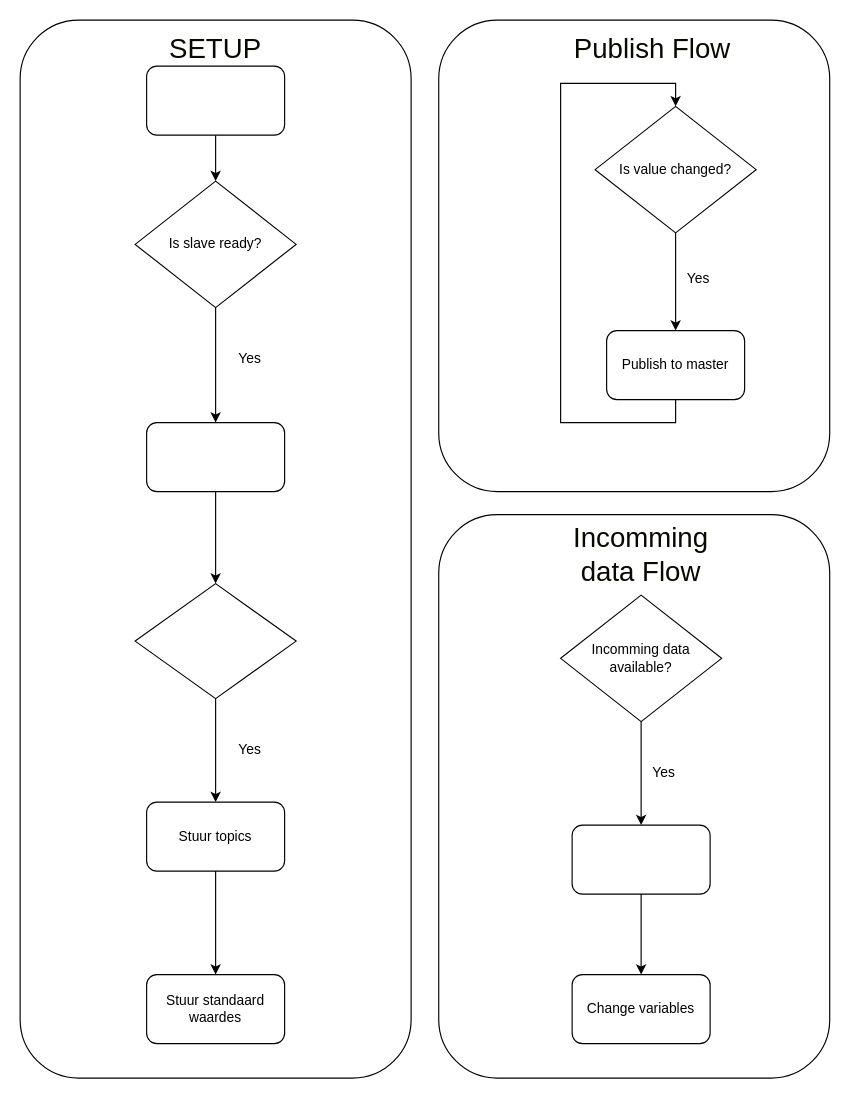
Image size: 850x1098. Some labels were removed from this diagram. The shapes that lost their labels are listed below. From the top down, each one's centre as x and y in pixels, then its label:
the point at 215,100: Startup
the point at 215,456: Stuur ClientID
the point at 215,640: Is slave connected to server?
the point at 640,859: Read incomming data
